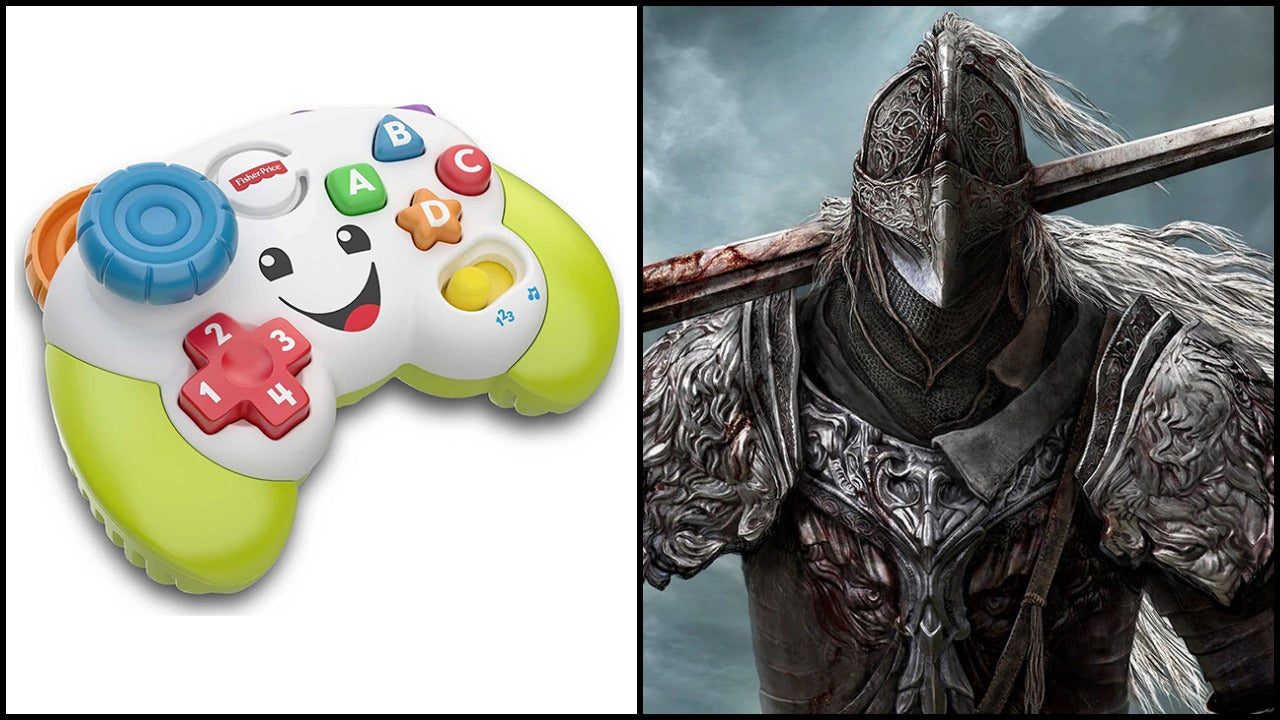controller: (25, 102, 621, 595)
